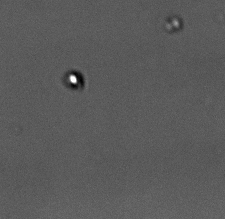Living Cell: (62, 70, 86, 92)
